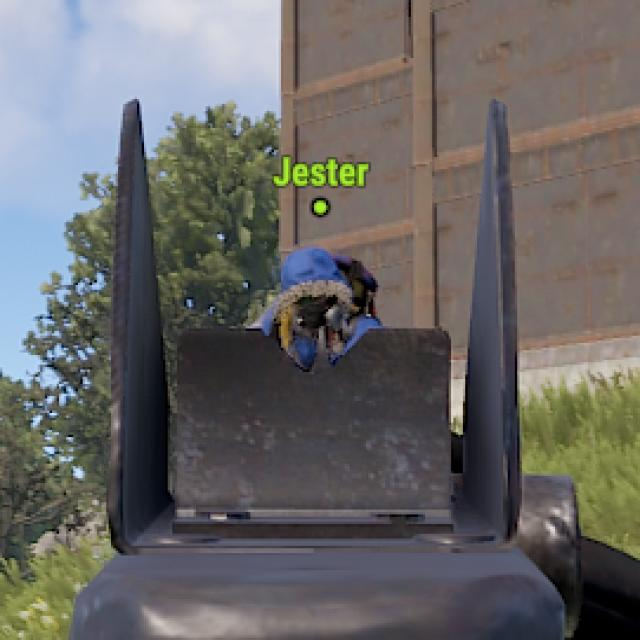Player: (254, 244, 378, 334)
